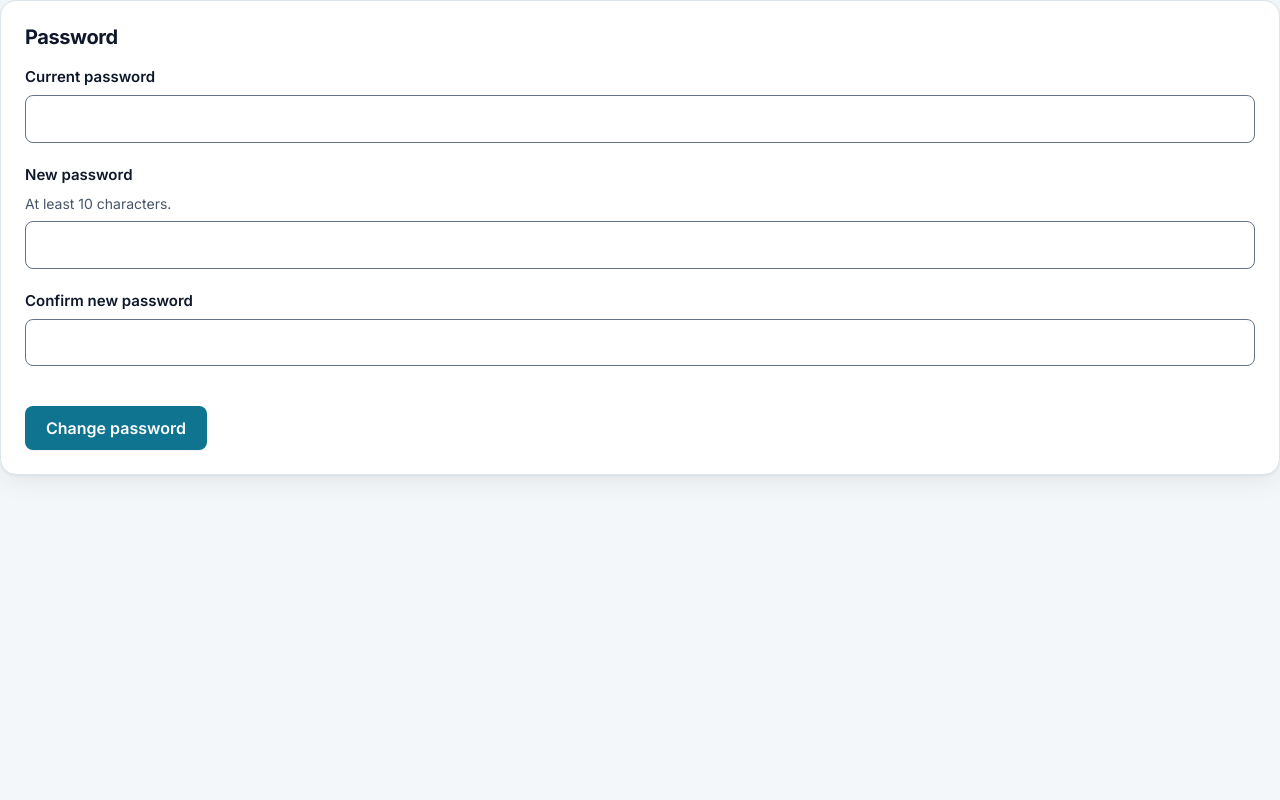
it: ChangePasswordForm › explains a lock with how long to wait
The width and height of the screenshot is (1280, 800).
Type "wrong-password" into the password field labelled "Current password" at (640, 119), box [25, 95, 1255, 143]
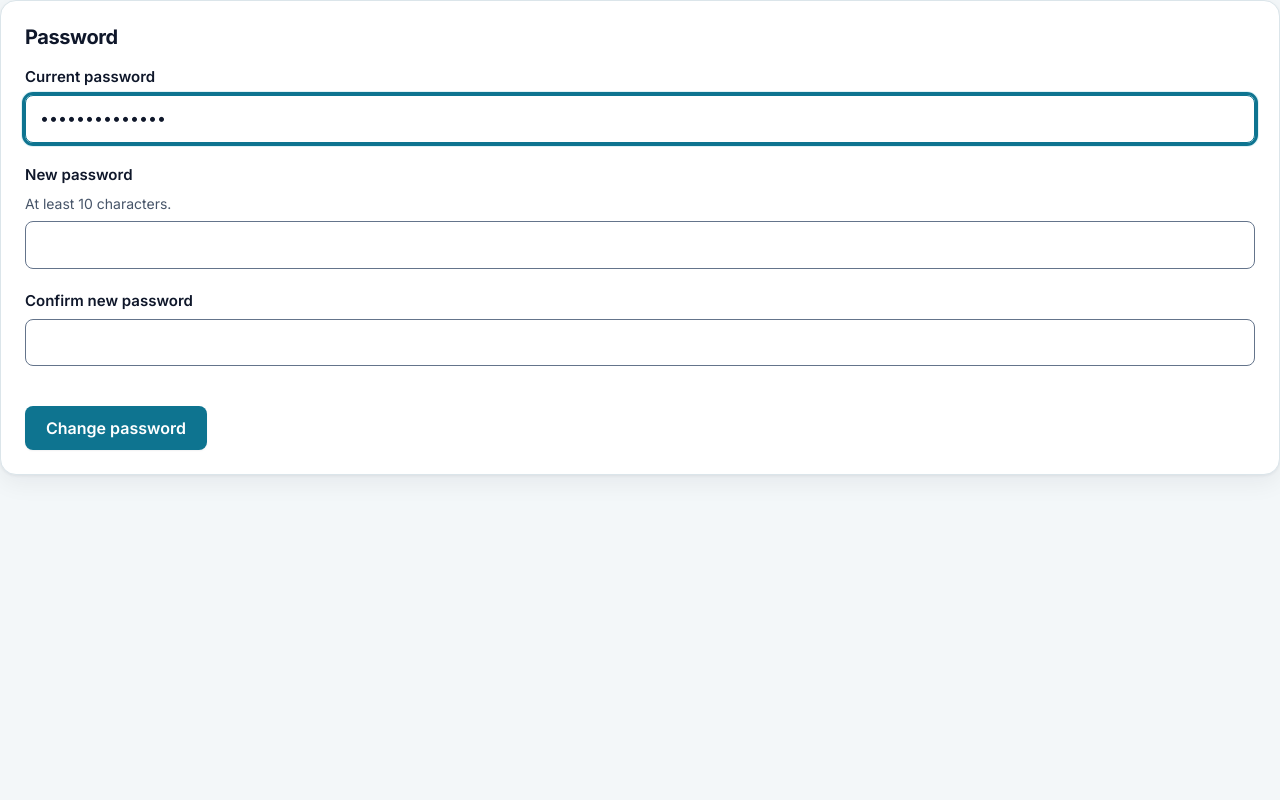
Type "a-brand-new-password" into the password field labelled "New password" at (640, 245), box [25, 221, 1255, 269]
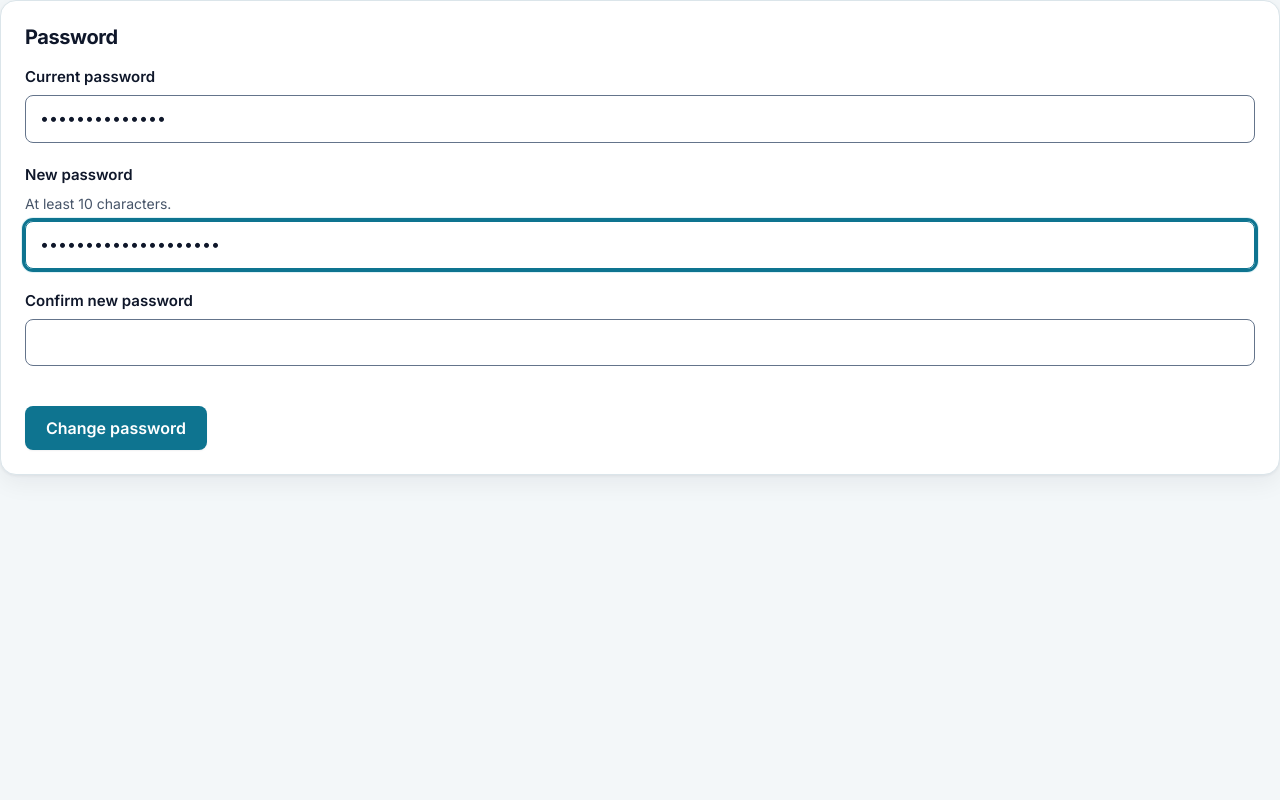
Type "a-brand-new-password" into the password field labelled "Confirm new password" at (640, 342), box [25, 319, 1255, 366]
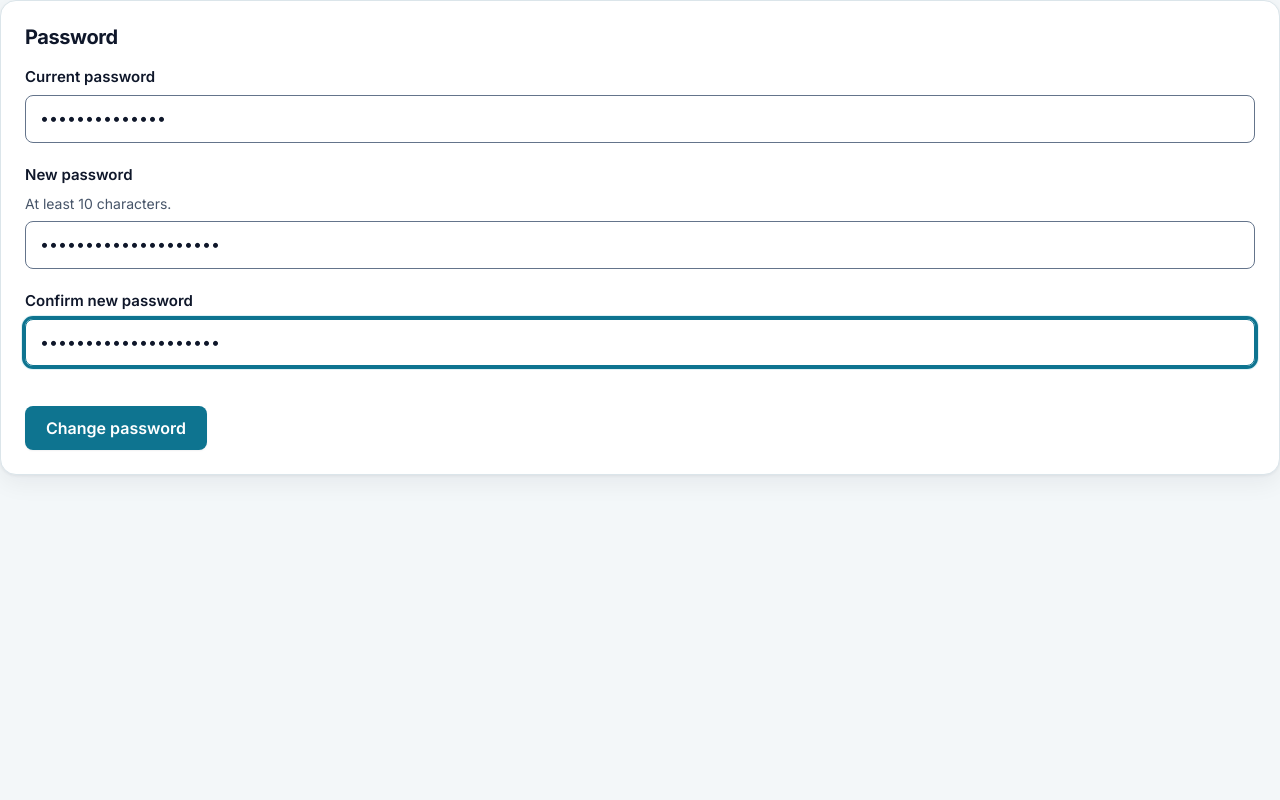
Click the button "Change password" at (116, 428), box [25, 406, 207, 450]
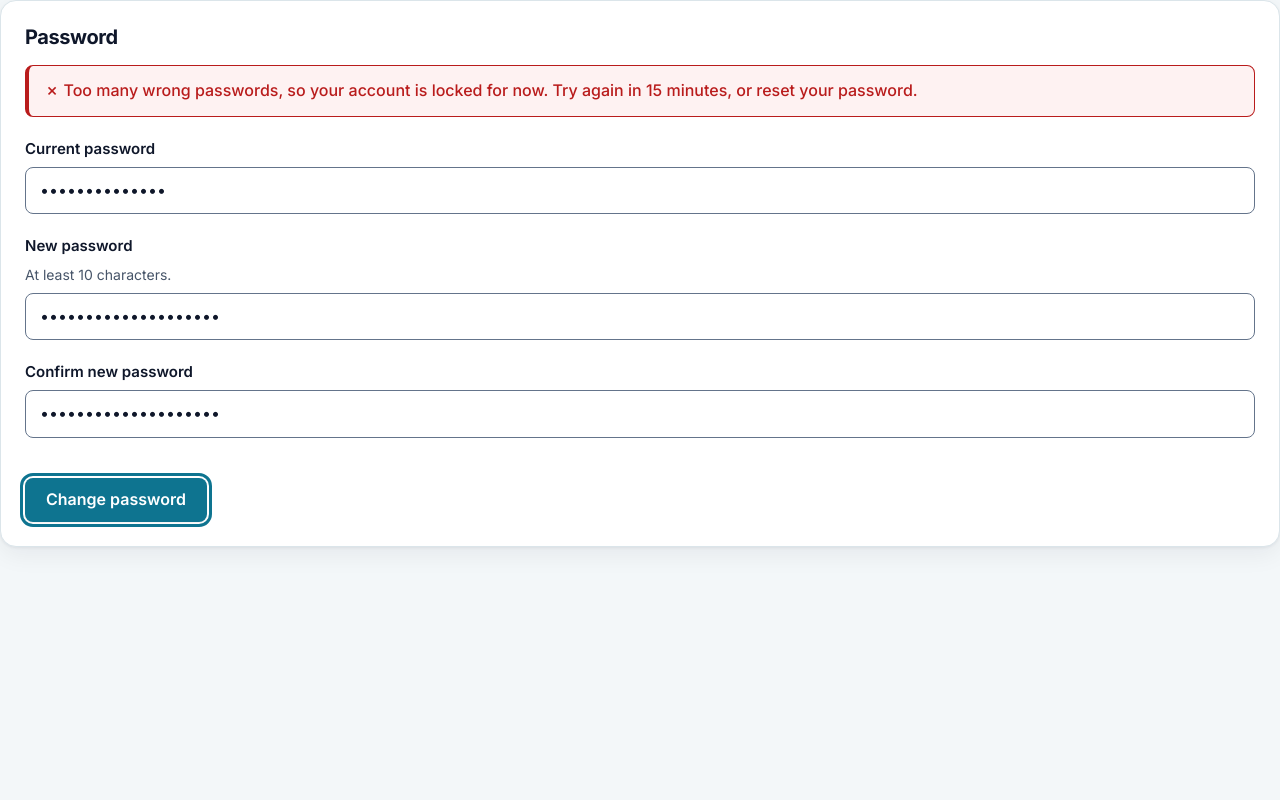
Result: the message shows "Try again in 15 minutes" at [63, 80, 918, 100]
